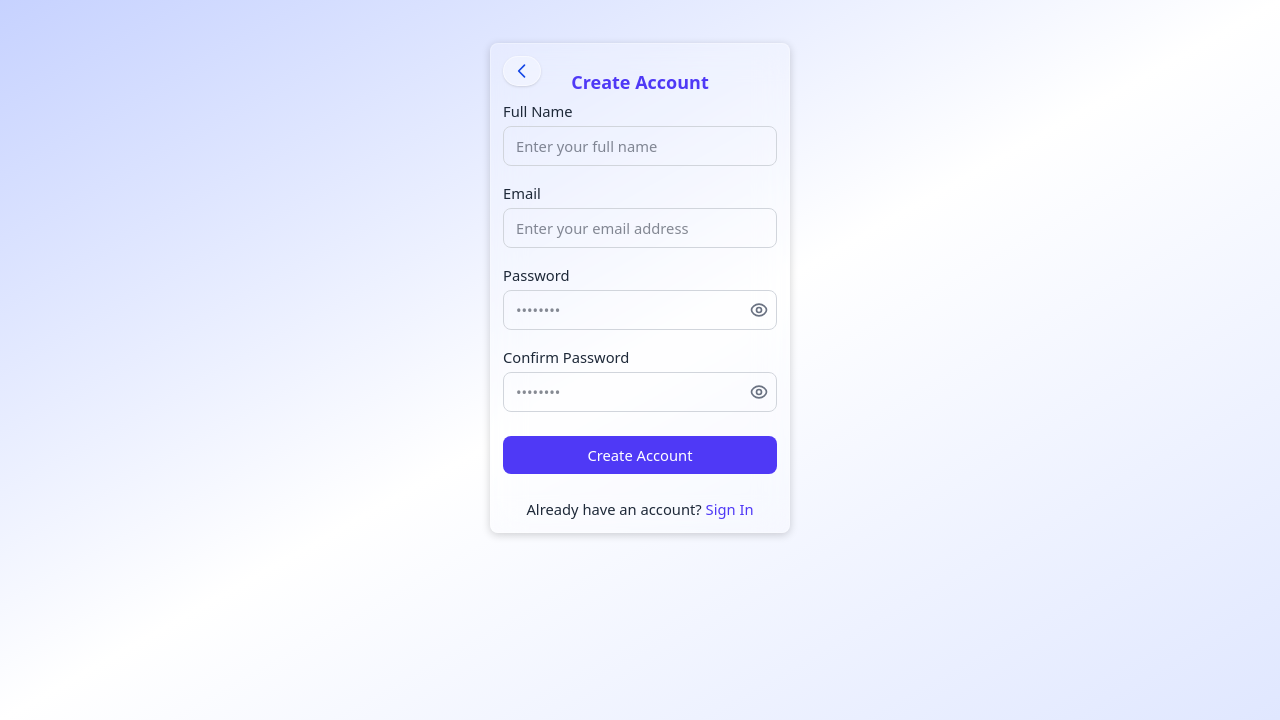
Test case: SignUp Page › shows error if password is too short
Type "Test User" into the field labelled "Full Name".
click(640, 146); type("Test User")  # box [503, 126, 777, 166]
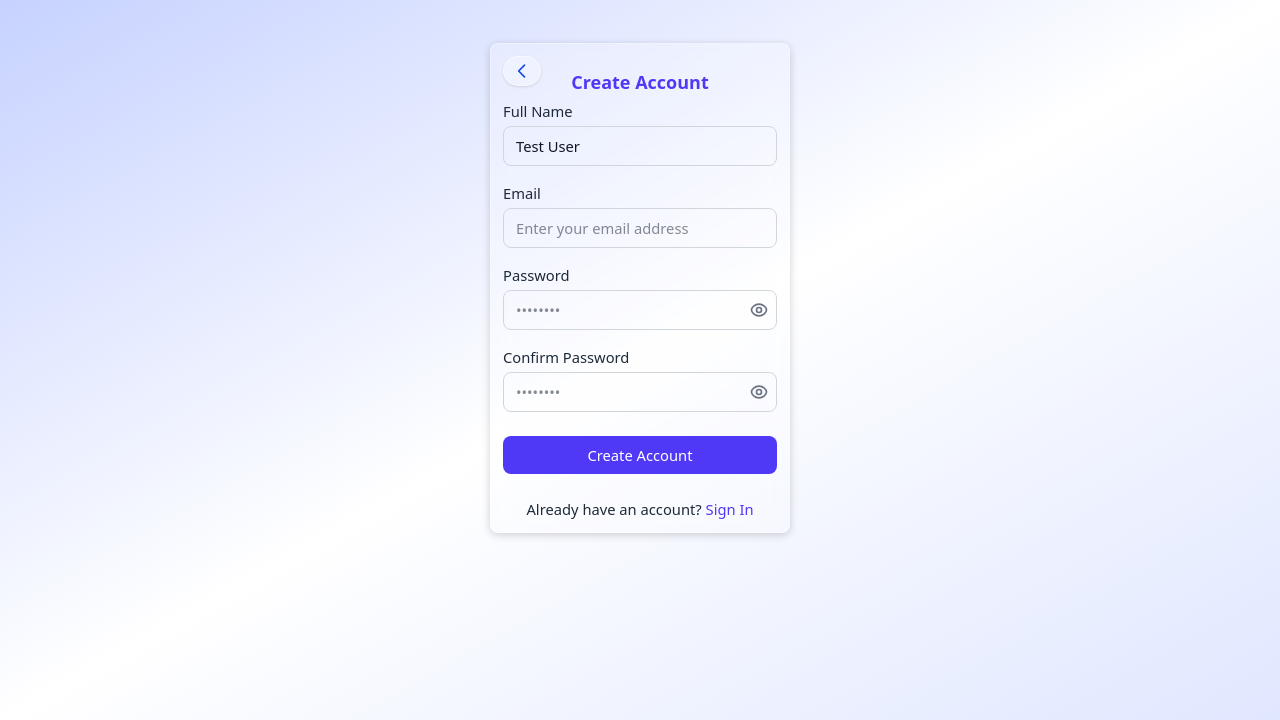
Type "test@example.com" into the field labelled "Email".
click(640, 228); type("test@example.com")  # box [503, 208, 777, 248]
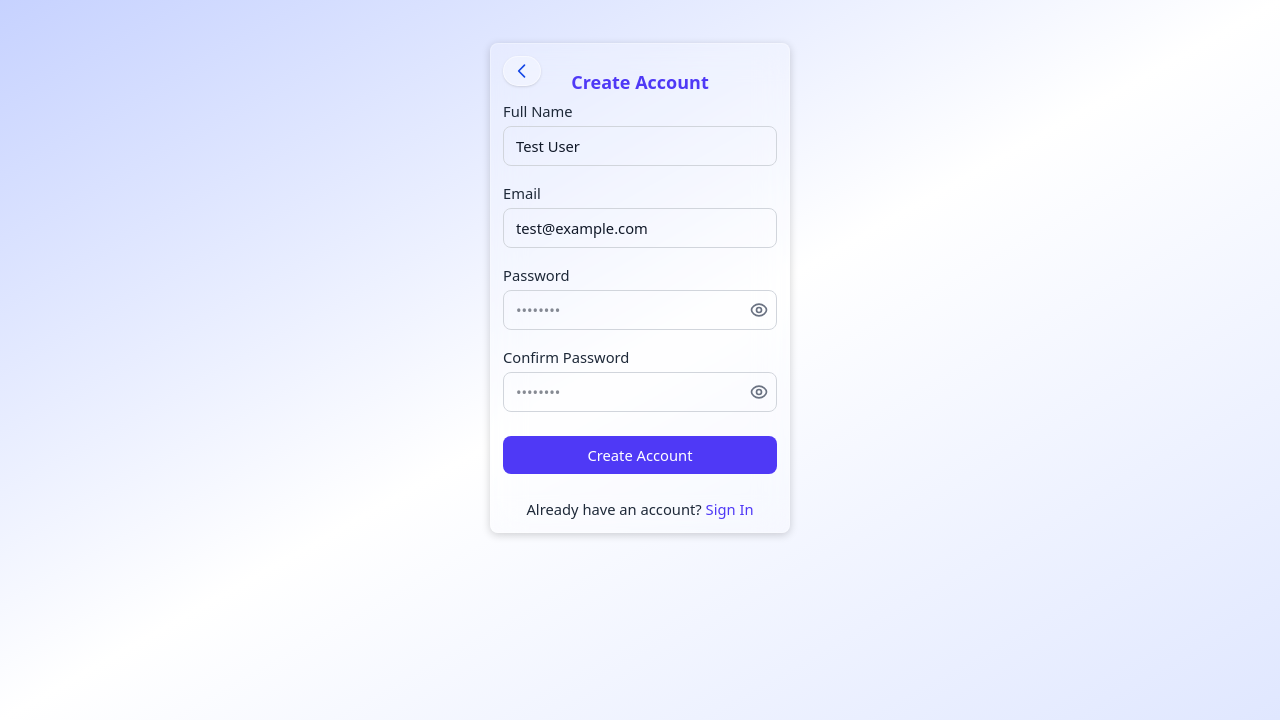
Type "abc" into the password field labelled "Password".
click(640, 310); type("abc")  # box [503, 290, 777, 330]
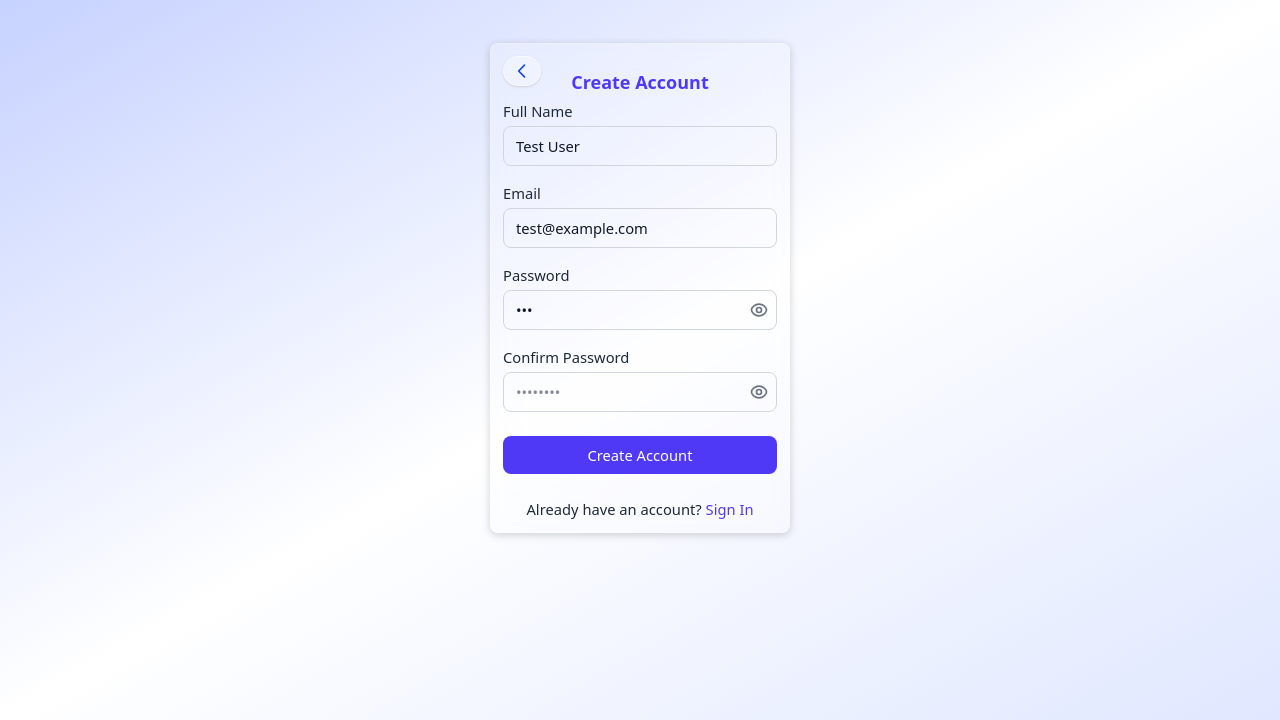
Type "abc" into the password field labelled "Confirm Password".
click(640, 392); type("abc")  # box [503, 372, 777, 412]
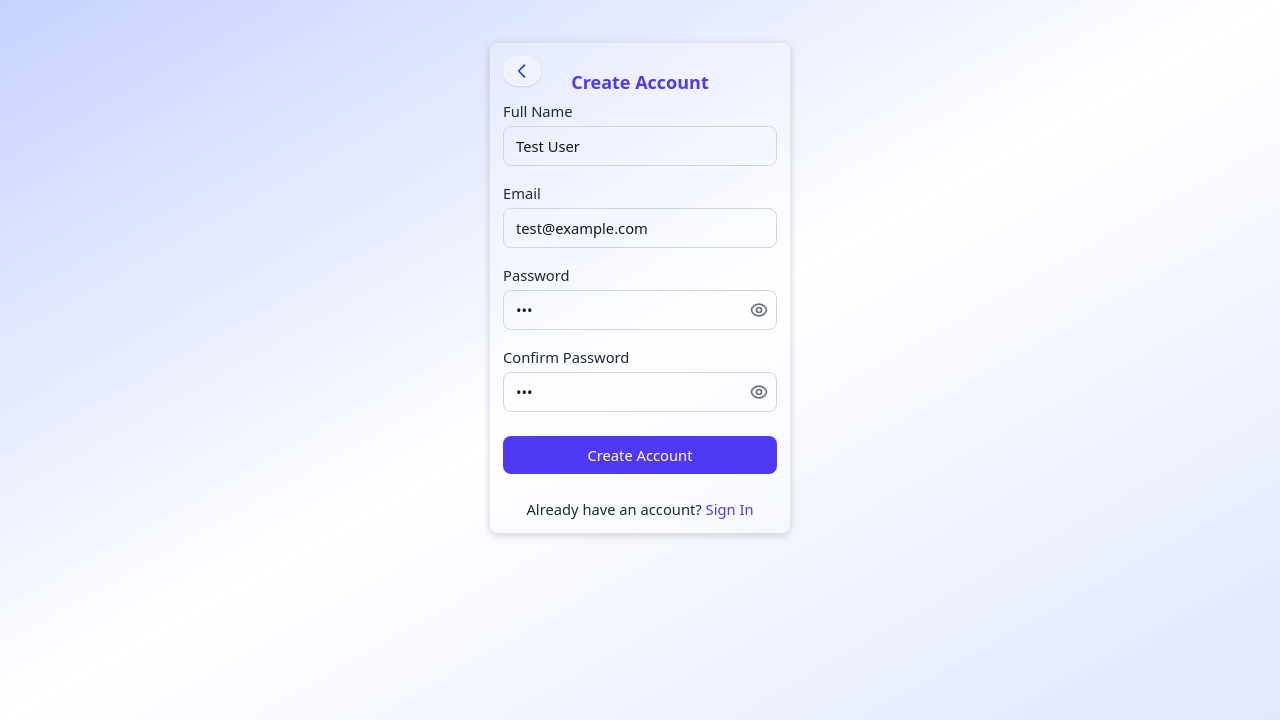
Click the button "Create Account".
click(640, 455)  # box [503, 436, 777, 474]
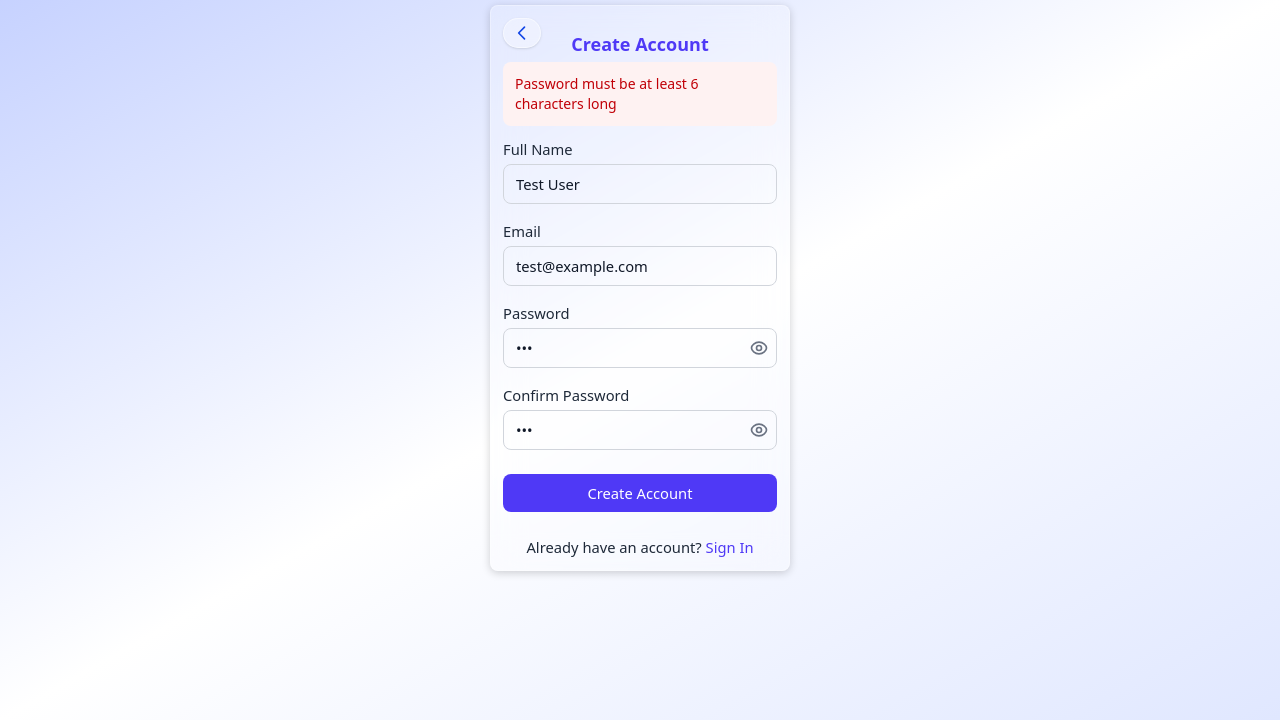
Result: the text "Password must be at least 6 characters long" is shown at [503, 62, 777, 126]
